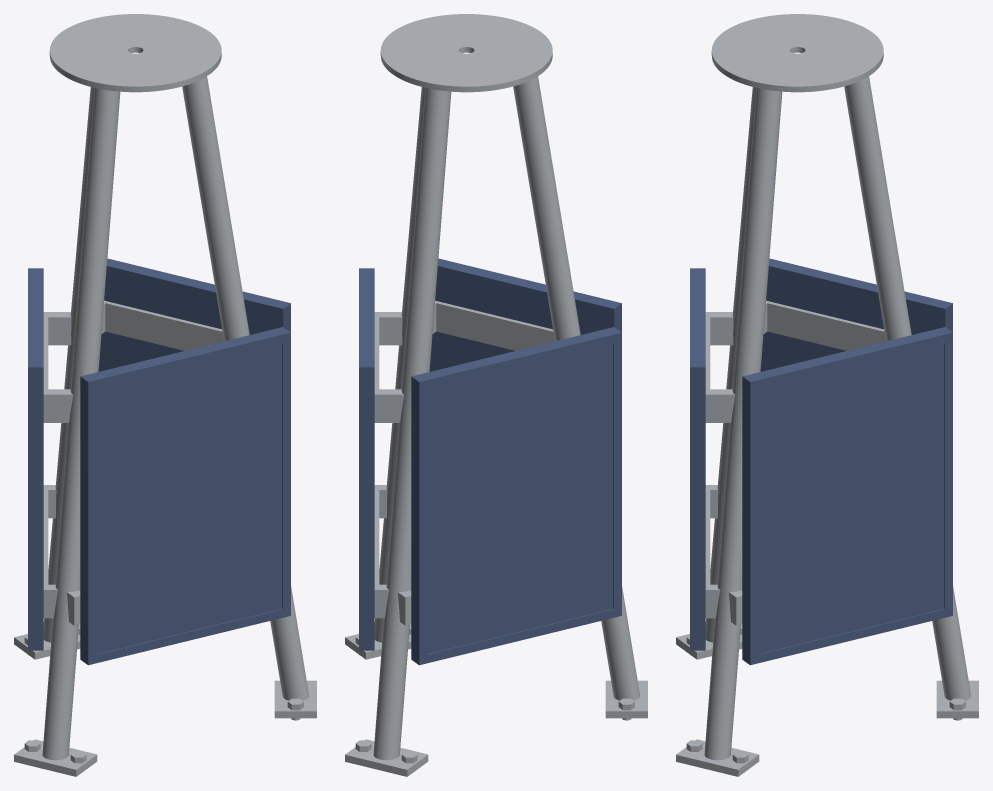
Rendered from esp2024_sa4_mast.glb.
3 views of the same model, side by side, from view 1: azimuth 30°, elevation 25°; view 2: azimuth 150°, elevation 25°; view 3: azimuth 270°, elevation 25° (orthographic).
Visible parts, largest first — view 1: solar panel 1, tripod leg 2, mast top plate, tripod leg 3, solar panel 2, solar panel 3, tripod leg 1, upper panel bracket 2, upper panel bracket 3, lower panel bracket 3; view 2: solar panel 3, tripod leg 1, mast top plate, tripod leg 2, solar panel 1, solar panel 2, tripod leg 3, upper panel bracket 1, upper panel bracket 2, lower panel bracket 2; view 3: solar panel 2, tripod leg 3, mast top plate, tripod leg 1, solar panel 3, solar panel 1, tripod leg 2, upper panel bracket 3, upper panel bracket 1, lower panel bracket 1.
Boxes of the visible parts, <box> form: solar panel 1: <box>80,327,290,665</box>; tripod leg 2: <box>14,88,120,776</box>; mast top plate: <box>49,14,221,92</box>; tripod leg 3: <box>182,76,316,718</box>; solar panel 2: <box>98,258,290,371</box>; solar panel 3: <box>28,268,43,650</box>; tripod leg 1: <box>14,87,94,659</box>; upper panel bracket 2: <box>101,300,223,350</box>; upper panel bracket 3: <box>43,312,73,422</box>; lower panel bracket 3: <box>43,485,58,618</box>; solar panel 3: <box>411,327,621,665</box>; tripod leg 1: <box>345,88,451,776</box>; mast top plate: <box>380,14,552,92</box>; tripod leg 2: <box>513,76,647,718</box>; solar panel 1: <box>429,258,621,371</box>; solar panel 2: <box>359,268,374,650</box>; tripod leg 3: <box>345,87,425,659</box>; upper panel bracket 1: <box>432,300,554,350</box>; upper panel bracket 2: <box>374,312,404,422</box>; lower panel bracket 2: <box>374,485,389,618</box>; solar panel 2: <box>742,327,952,665</box>; tripod leg 3: <box>676,88,782,776</box>; mast top plate: <box>711,14,883,92</box>; tripod leg 1: <box>844,76,978,718</box>; solar panel 3: <box>760,258,952,371</box>; solar panel 1: <box>690,268,705,650</box>; tripod leg 2: <box>676,87,756,659</box>; upper panel bracket 3: <box>763,300,885,350</box>; upper panel bracket 1: <box>705,312,735,422</box>; lower panel bracket 1: <box>705,485,720,618</box>.
Size of the model in its own units: 448 by 928 by 388.
